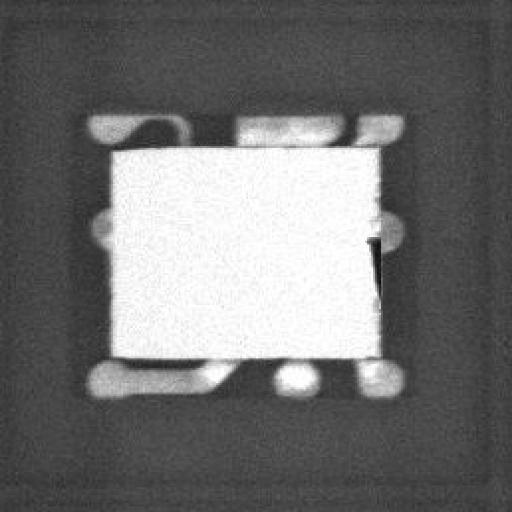DIE_BROKEN: (361, 231, 379, 296)
